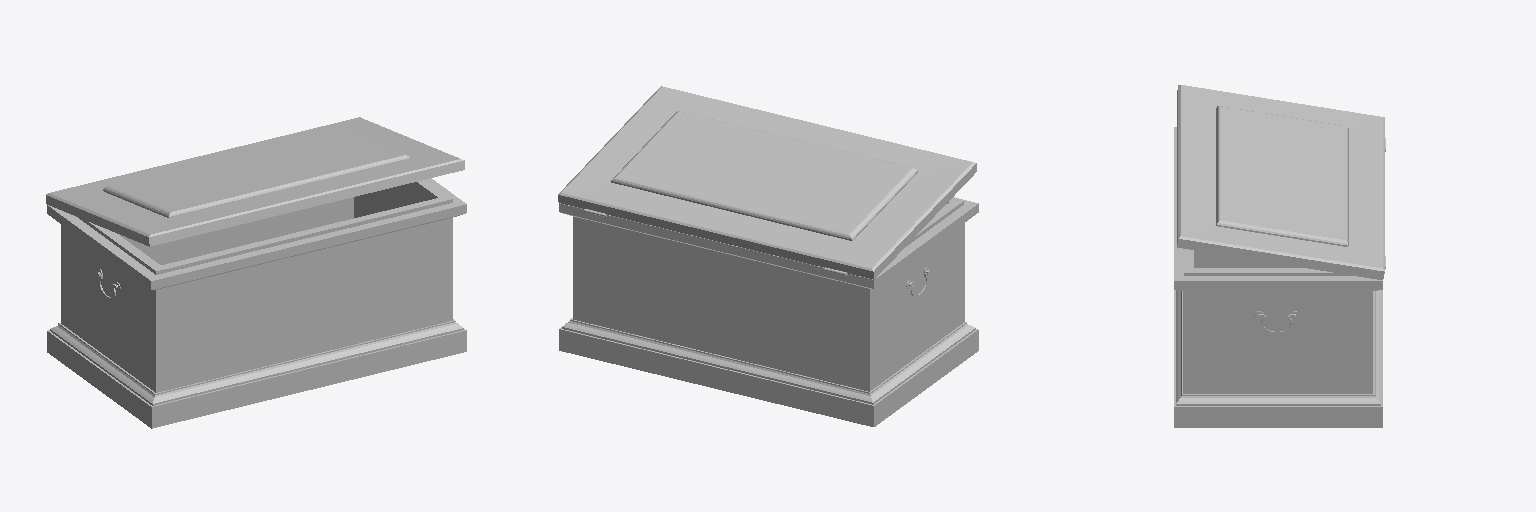
File: Chest.obj
3 renders of one model, left to right at view 1: azimuth 30°, elevation 25°; view 2: azimuth 150°, elevation 25°; view 3: azimuth 270°, elevation 25°, orthographic.
Visible parts, largest first — view 1: Chest, ChestTop; view 2: Chest, ChestTop; view 3: Chest, ChestTop.
Boxes of the visible parts, x1,y1,x2,y2 form: Chest: [47, 178, 466, 428]; ChestTop: [46, 117, 464, 246]; Chest: [559, 197, 978, 426]; ChestTop: [558, 86, 976, 279]; Chest: [1174, 127, 1385, 427]; ChestTop: [1177, 85, 1384, 279].
Size of the model in its own units: 35 by 20.23 by 20.44.